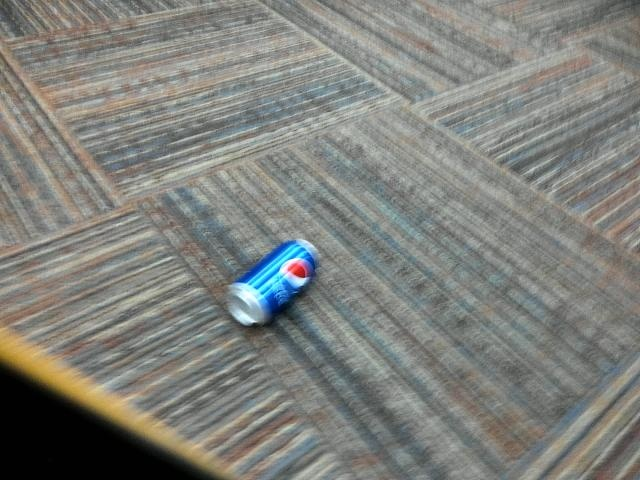can: (224, 231, 326, 337)
